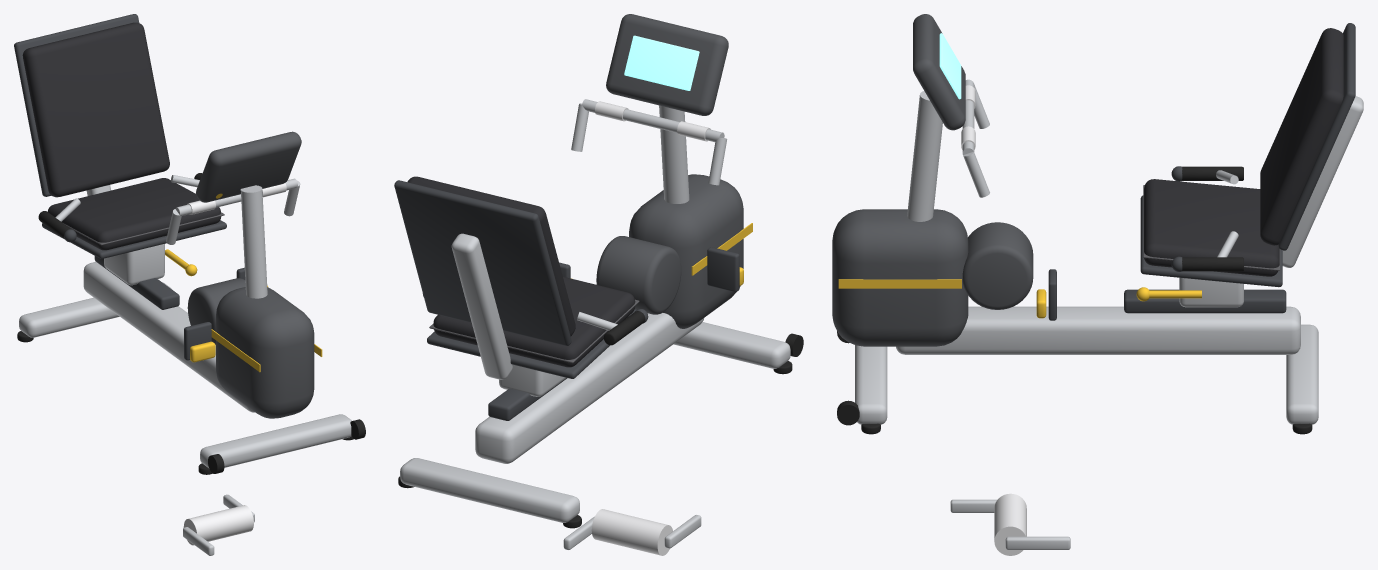
File: RecumbentBike.fbx
3 renders of one model, left to right at view 1: azimuth 30°, elevation 25°; view 2: azimuth 150°, elevation 25°; view 3: azimuth 270°, elevation 25°, orthographic. The views are drawn at different scales.
Parts seen in each view (by area): view 1: Backrest, Flywheel_Hood, Seat, Main_Beam, Console, Stabilizer_Front, Console_Stem, Backrest_Shell, Stabilizer_Back, Seat_Carriage, Crank_Hub, Crank_Housing (+6 smaller); view 2: Backrest_Shell, Flywheel_Hood, Main_Beam, Console, Seat, Stabilizer_Back, Crank_Housing, Back_Post, Stabilizer_Front, Console_Screen, Crank_Hub, Backrest (+10 smaller); view 3: Flywheel_Hood, Main_Beam, Seat, Backrest, Crank_Housing, Console, Console_Stem, Stabilizer_Back, Backrest_Shell, Seat_Rail, Back_Post, Stabilizer_Front (+8 smaller).
Boxes of the visible parts, x1,y1,x2,y2 form: Backrest: (22, 22, 169, 197); Flywheel_Hood: (216, 287, 314, 418); Seat: (47, 178, 221, 250); Main_Beam: (83, 262, 254, 412); Console: (196, 131, 301, 202); Stabilizer_Front: (200, 414, 351, 468); Console_Stem: (240, 185, 267, 298); Backrest_Shell: (14, 14, 139, 196); Stabilizer_Back: (19, 282, 172, 337); Seat_Carriage: (104, 244, 164, 285); Crank_Hub: (183, 505, 253, 545); Crank_Housing: (187, 278, 245, 344); Backrest_Shell: (394, 180, 571, 345); Flywheel_Hood: (629, 174, 743, 328); Main_Beam: (475, 313, 703, 463); Console: (606, 14, 728, 115); Seat: (433, 276, 635, 367); Stabilizer_Back: (400, 458, 579, 522); Crank_Housing: (596, 236, 681, 314); Back_Post: (451, 233, 512, 379); Stabilizer_Front: (673, 322, 790, 368); Console_Screen: (624, 35, 699, 90); Crank_Hub: (591, 509, 672, 555); Backrest: (407, 176, 575, 336); Flywheel_Hood: (832, 209, 968, 346); Main_Beam: (896, 306, 1300, 354); Seat: (1144, 179, 1279, 276); Backrest: (1260, 28, 1343, 245); Crank_Housing: (962, 222, 1033, 309); Console: (913, 14, 965, 130); Console_Stem: (907, 91, 942, 221); Stabilizer_Back: (1286, 324, 1318, 424); Backrest_Shell: (1278, 23, 1355, 250); Seat_Rail: (1124, 289, 1286, 313); Back_Post: (1282, 96, 1363, 267); Stabilizer_Front: (855, 345, 887, 424).
Bounding box in the file's own units: 0.708 × 1.71 × 1.64.
